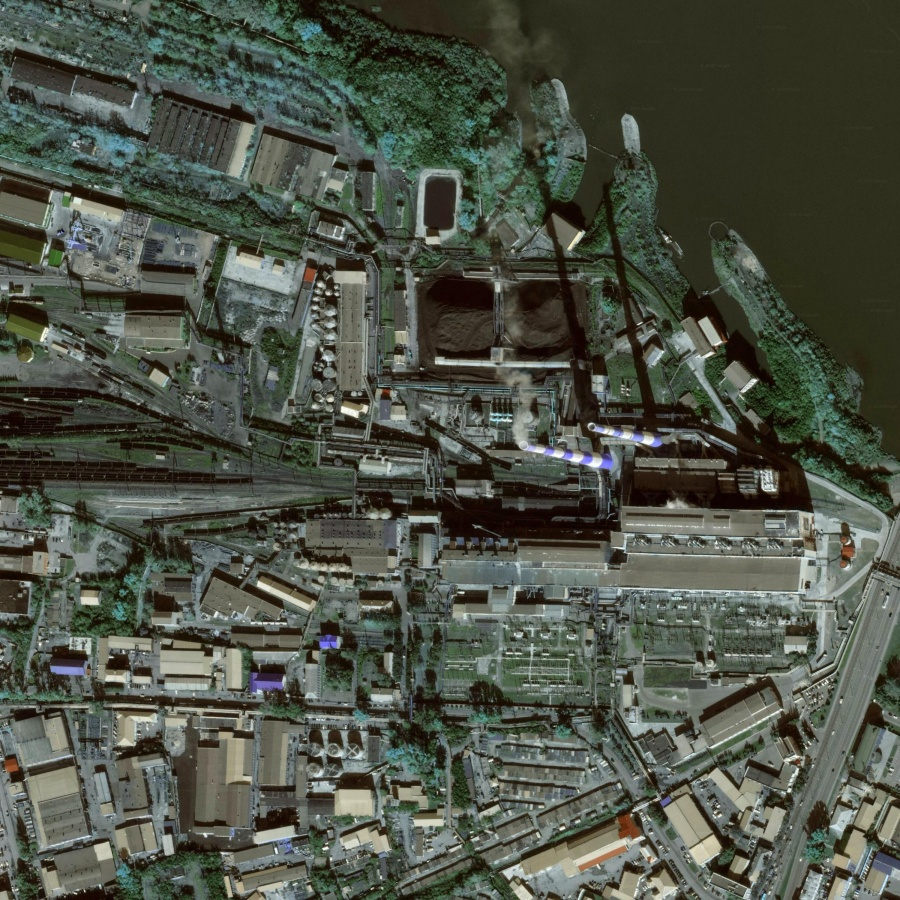PowerPlant: (397, 243, 801, 587)
